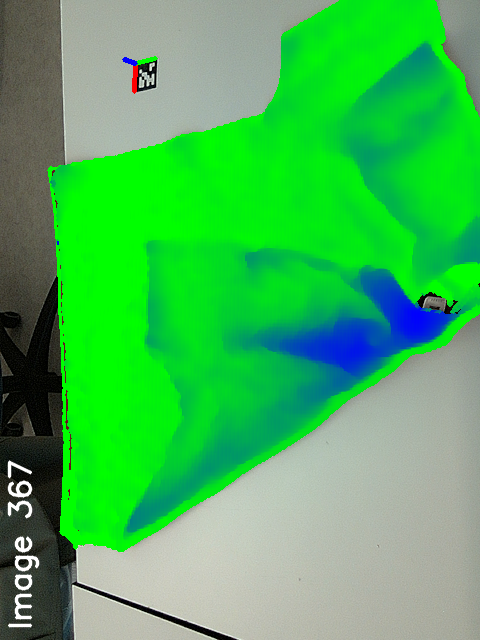V: (132, 225, 190, 270), (141, 317, 180, 362)
